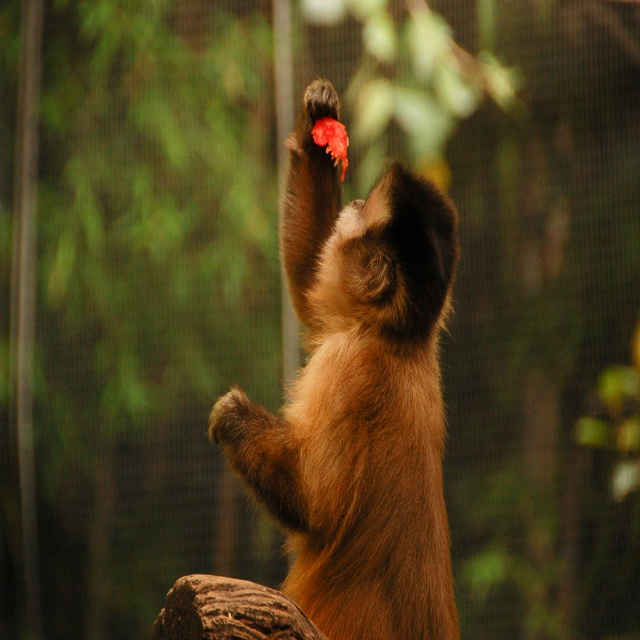Monkey: (216, 101, 489, 640)
